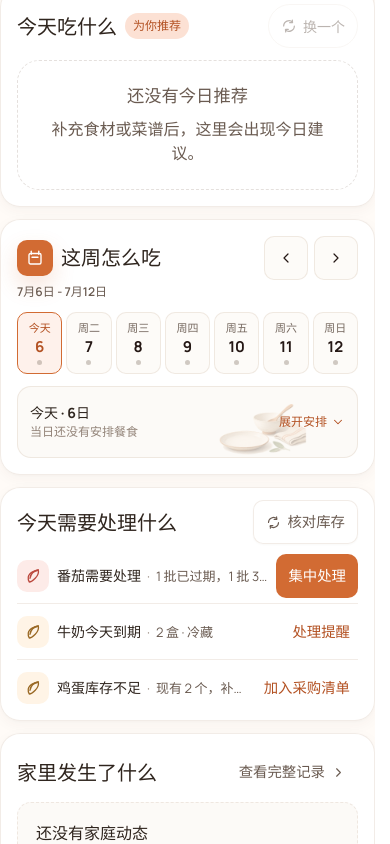
Scenario: HomeMobileDashboard three-question mobile › renders a compact seven-day strip with collapsed meal details by default
(page scrolled)
Click the button "今天 · 6日 当日还没有安排餐食 展开安排".
click(188, 422)  # box [17, 386, 358, 458]
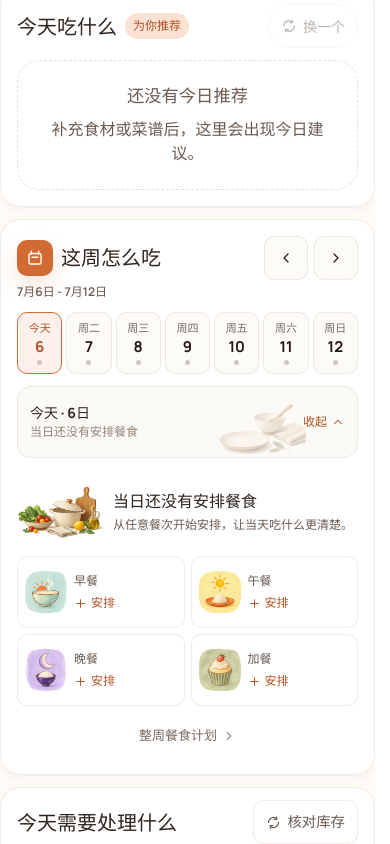
Expected: the button "今天 · 6日 当日还没有安排餐食 收起" is expanded, [17, 386, 358, 458]
Expected: the element with test id "home-day-empty" is shown, [17, 470, 358, 758]
Expected: the button "整周餐食计划" is shown, [17, 714, 358, 758]
